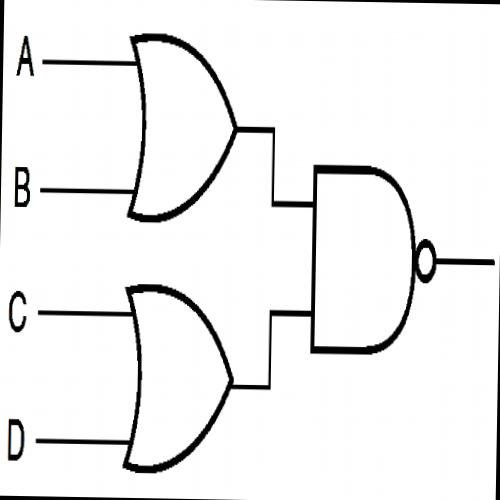nand: (304, 151, 444, 372)
or: (118, 274, 242, 482), (120, 24, 244, 230)
